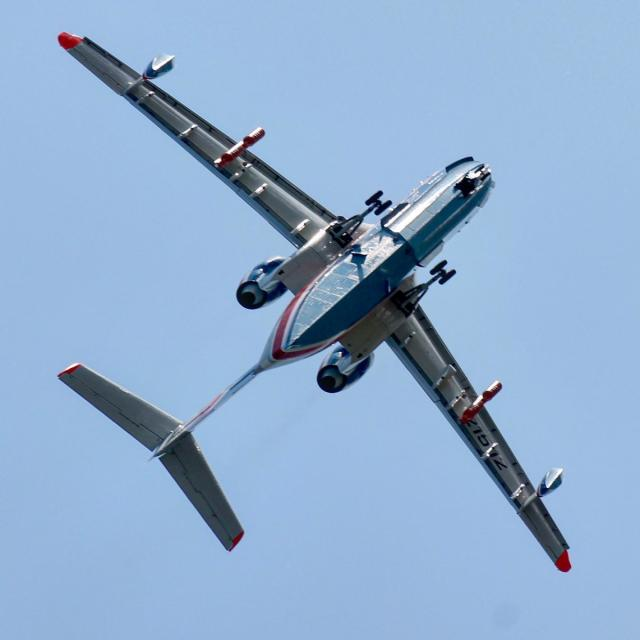MIL_Plane: (56, 31, 572, 573)
